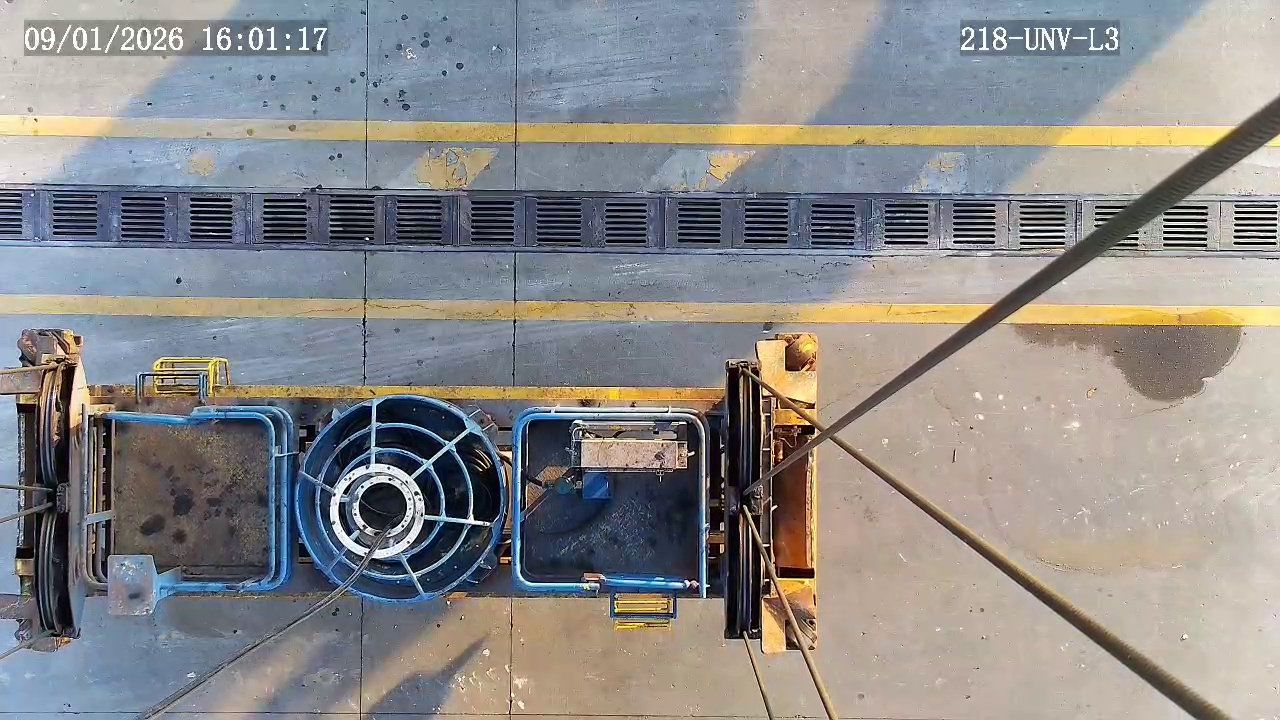right: (293, 395, 505, 604)
